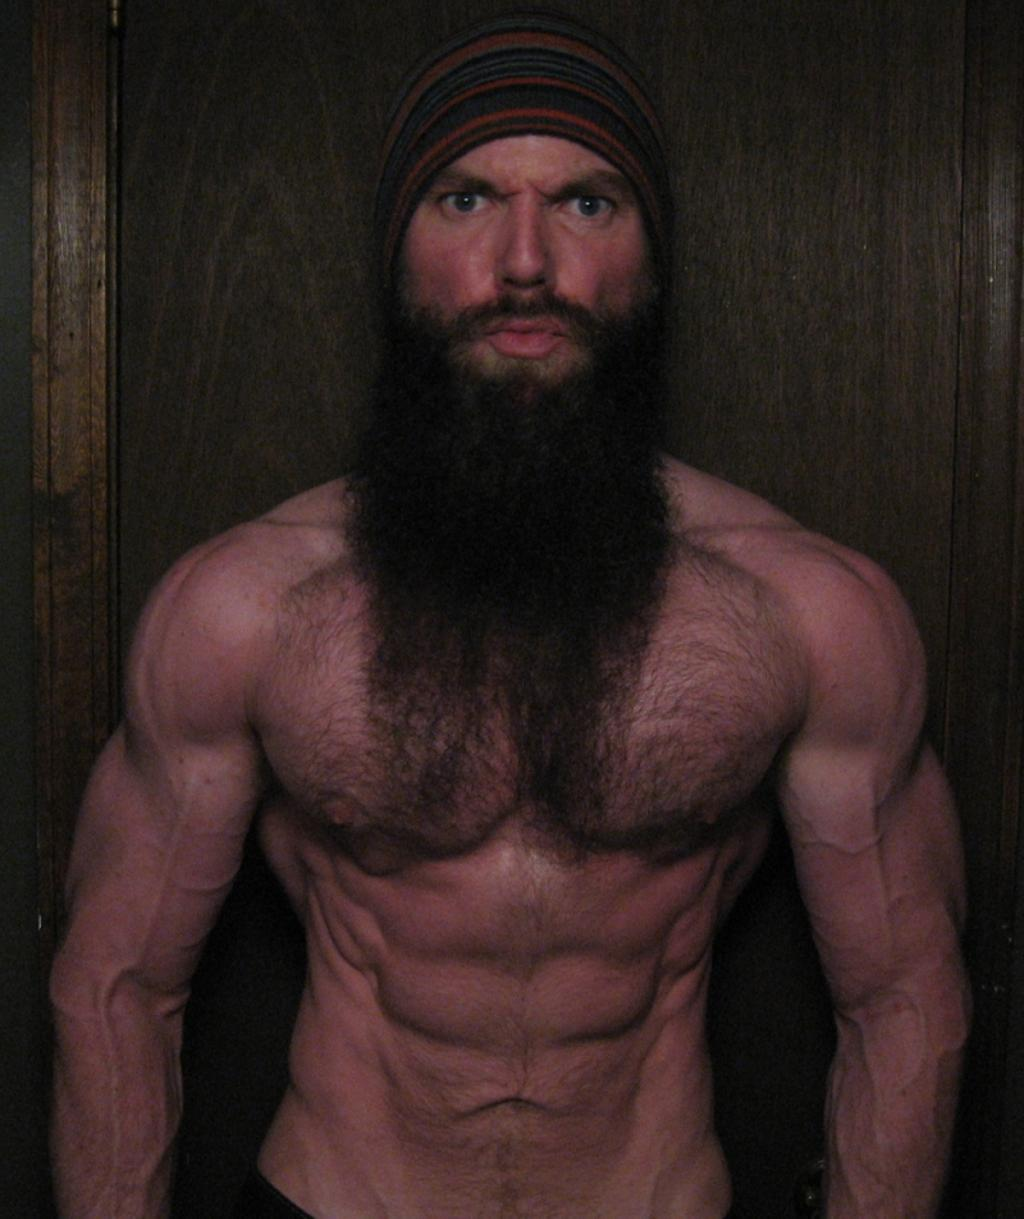face: (412, 133, 653, 400)
